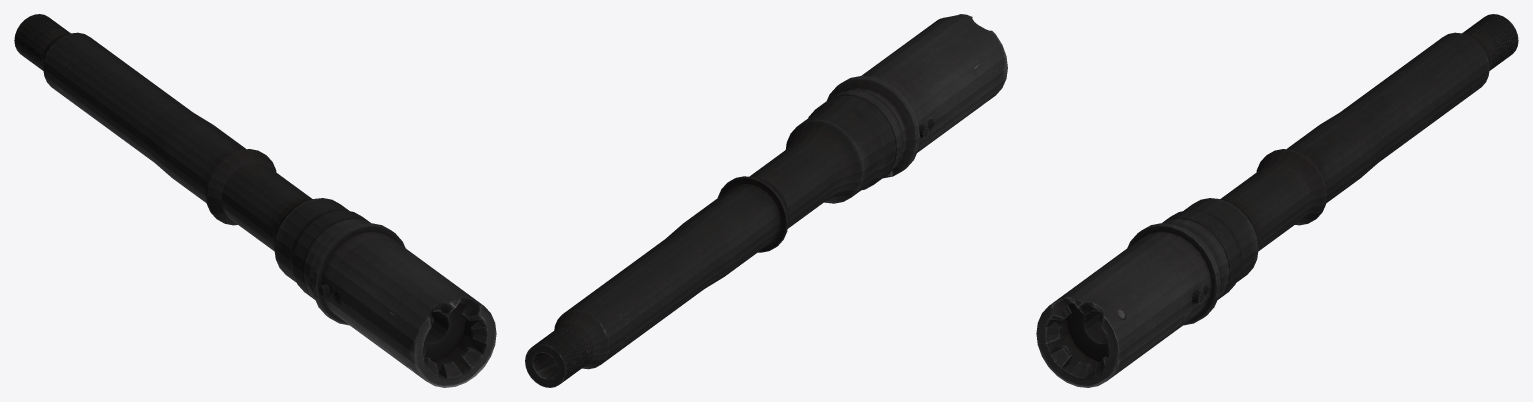
3 renders of one model, left to right at view 1: azimuth 30°, elevation 25°; view 2: azimuth 150°, elevation 25°; view 3: azimuth 330°, elevation 25°, orthographic.
Visible parts, largest first — view 1: TW_5fbbfacda56d053a3543f799_PZ_Import; view 2: TW_5fbbfacda56d053a3543f799_PZ_Import; view 3: TW_5fbbfacda56d053a3543f799_PZ_Import.
Boxes of the visible parts, left/top/right/bottom form: TW_5fbbfacda56d053a3543f799_PZ_Import: left=14, top=14, right=496, bottom=387; TW_5fbbfacda56d053a3543f799_PZ_Import: left=525, top=14, right=1007, bottom=387; TW_5fbbfacda56d053a3543f799_PZ_Import: left=1036, top=14, right=1518, bottom=387.
Size of the model in its own units: 0.017 by 0.1321 by 0.0169.
1 material, 1 textured.
